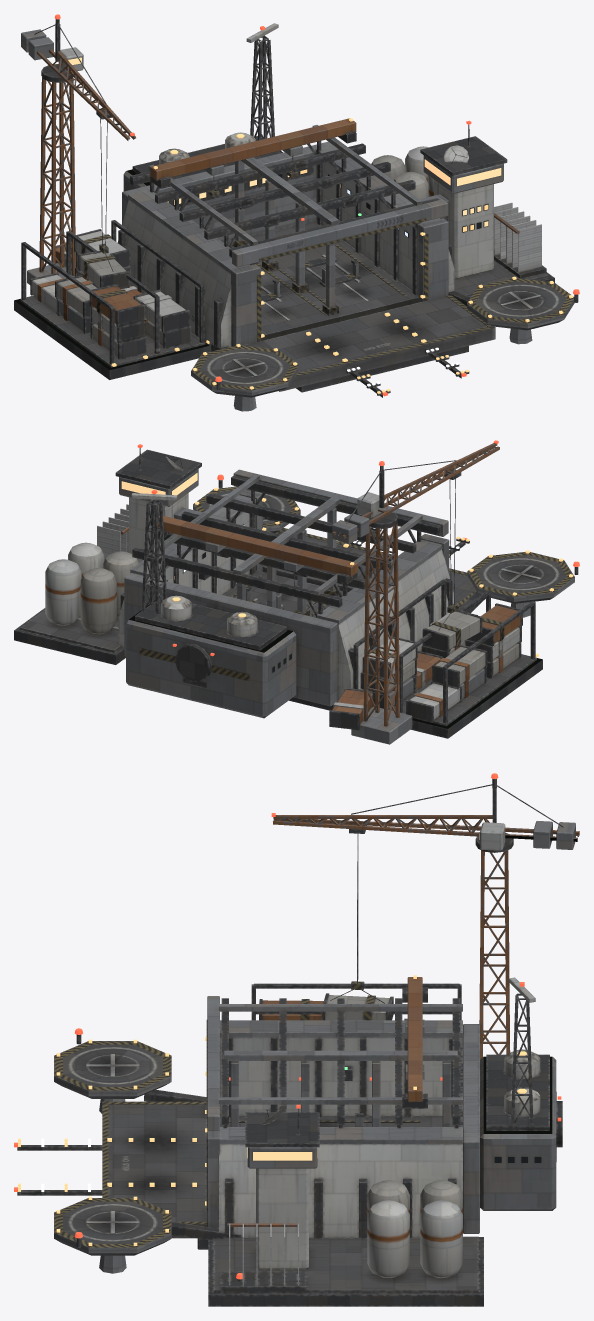
The model's file is raider_dock.glb.
3 renders of one model, top to bottom at view 1: azimuth 30°, elevation 25°; view 2: azimuth 150°, elevation 25°; view 3: azimuth 270°, elevation 25°, orthographic. The views are drawn at different scales.
Parts seen in each view (by area): view 1: raider_dock_hull, raider_dock_lights; view 2: raider_dock_hull, raider_dock_lights; view 3: raider_dock_hull, raider_dock_lights.
Boxes of the visible parts, x1,y1,x2,y2 form: raider_dock_hull: [14, 19, 578, 411]; raider_dock_lights: [54, 14, 579, 396]; raider_dock_hull: [14, 443, 578, 744]; raider_dock_lights: [121, 440, 579, 672]; raider_dock_hull: [17, 779, 579, 1306]; raider_dock_lights: [14, 773, 561, 1279].
Bounding box in the file's own units: 54.5 × 33.61 × 53.37.
Materials: 9 (1 with a texture image).
